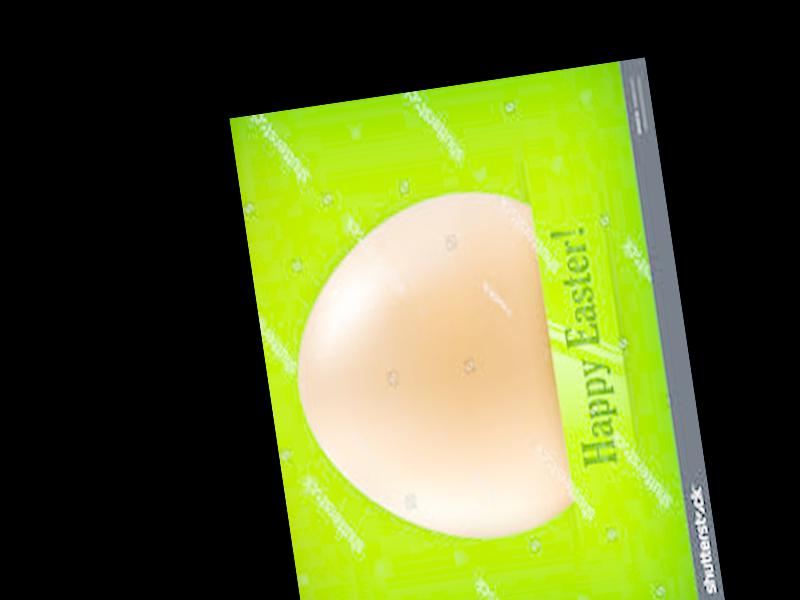Eggs: (274, 184, 576, 560)
